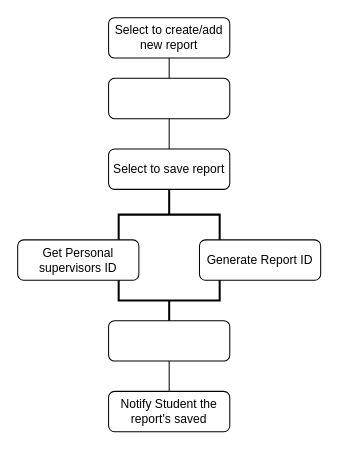
The diagram is 338 pixels wide and 449 high, and some of its shapes have lost their labels. Each missing label, with the centre of its shape:
Save report with students and PS's ID: point 169,340
Select confidence level and add notes: point 169,98
